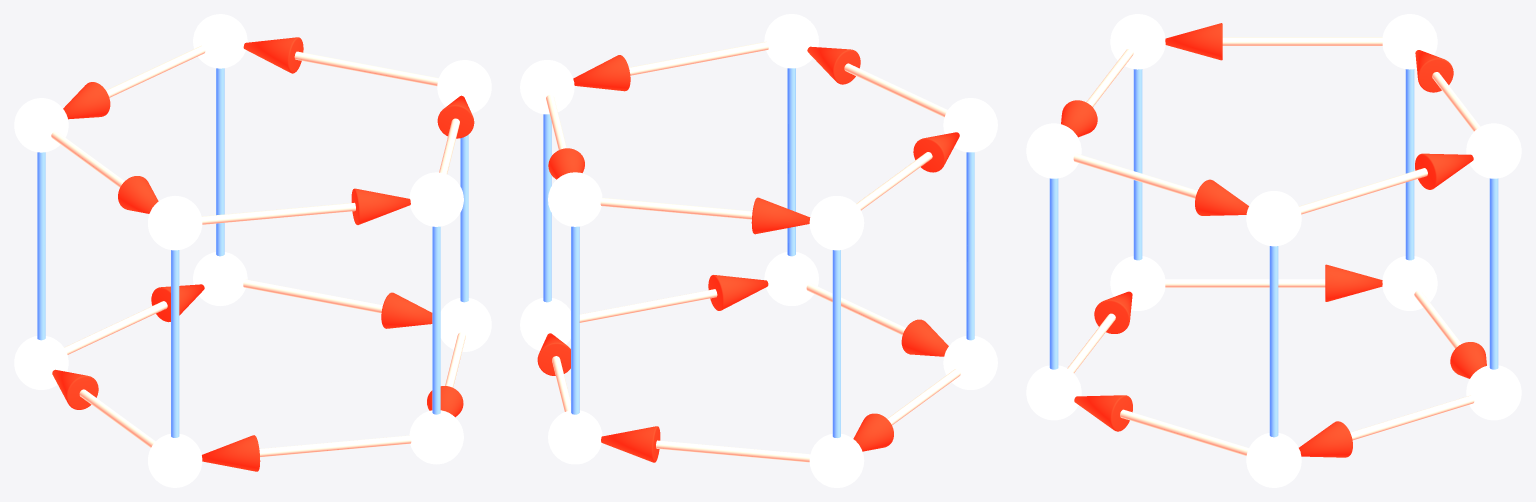
3 views of the same model, side by side, from view 1: azimuth 30°, elevation 25°; view 2: azimuth 150°, elevation 25°; view 3: azimuth 270°, elevation 25° (orthographic).
Visible parts, largest first — view 1: Sphere1.0003, Sphere1.0004, Sphere2.0003, Sphere2.0004, Sphere1.0001, Sphere1.0002, Sphere2.0001, Sphere2.0002, Sphere2.0000, Sphere1.0000, Vertical.0004, Vertical.0002 (+21 smaller); view 2: Sphere1.0002, Sphere1.0001, Sphere2.0001, Sphere2.0002, Sphere1.0004, Sphere1.0003, Sphere2.0004, Sphere2.0003, Sphere1.0000, Sphere2.0000, Vertical.0001, Vertical.0003 (+21 smaller); view 3: Sphere1.0000, Sphere2.0000, Sphere1.0001, Sphere1.0004, Sphere2.0004, Sphere2.0001, Sphere1.0003, Sphere2.0002, Sphere1.0002, Sphere2.0003, Vertical.0001, Vertical.0004 (+23 smaller).
Boxes of the visible parts, bbox=[...] form: Sphere1.0003: bbox=[148, 196, 202, 250]; Sphere1.0004: bbox=[409, 172, 463, 226]; Sphere2.0003: bbox=[148, 434, 202, 487]; Sphere2.0004: bbox=[409, 410, 463, 464]; Sphere1.0001: bbox=[193, 14, 247, 68]; Sphere1.0002: bbox=[14, 98, 68, 152]; Sphere2.0001: bbox=[193, 252, 247, 305]; Sphere2.0002: bbox=[14, 336, 68, 389]; Sphere2.0000: bbox=[440, 298, 491, 351]; Sphere1.0000: bbox=[437, 60, 491, 113]; Vertical.0004: bbox=[432, 226, 440, 414]; Vertical.0002: bbox=[37, 152, 45, 340]; Sphere1.0002: bbox=[809, 196, 864, 250]; Sphere1.0001: bbox=[548, 172, 602, 226]; Sphere2.0001: bbox=[548, 410, 602, 464]; Sphere2.0002: bbox=[809, 434, 864, 487]; Sphere1.0004: bbox=[764, 14, 818, 68]; Sphere1.0003: bbox=[943, 98, 997, 152]; Sphere2.0004: bbox=[764, 252, 818, 305]; Sphere2.0003: bbox=[943, 336, 997, 389]; Sphere1.0000: bbox=[520, 60, 574, 114]; Sphere2.0000: bbox=[520, 298, 570, 350]; Vertical.0001: bbox=[571, 226, 579, 414]; Vertical.0003: bbox=[966, 152, 974, 340]; Sphere1.0000: bbox=[1246, 191, 1301, 246]; Sphere2.0000: bbox=[1246, 433, 1301, 487]; Sphere1.0001: bbox=[1466, 123, 1521, 178]; Sphere1.0004: bbox=[1026, 123, 1081, 178]; Sphere2.0004: bbox=[1026, 365, 1081, 420]; Sphere2.0001: bbox=[1466, 365, 1521, 420]; Sphere1.0003: bbox=[1110, 14, 1165, 69]; Sphere2.0002: bbox=[1382, 256, 1437, 310]; Sphere1.0002: bbox=[1382, 14, 1437, 69]; Sphere2.0003: bbox=[1110, 256, 1165, 310]; Vertical.0001: bbox=[1489, 178, 1498, 369]; Vertical.0004: bbox=[1049, 178, 1058, 369].
Bounding box in the file's own units: 1.11 × 0.752 × 1.16.
